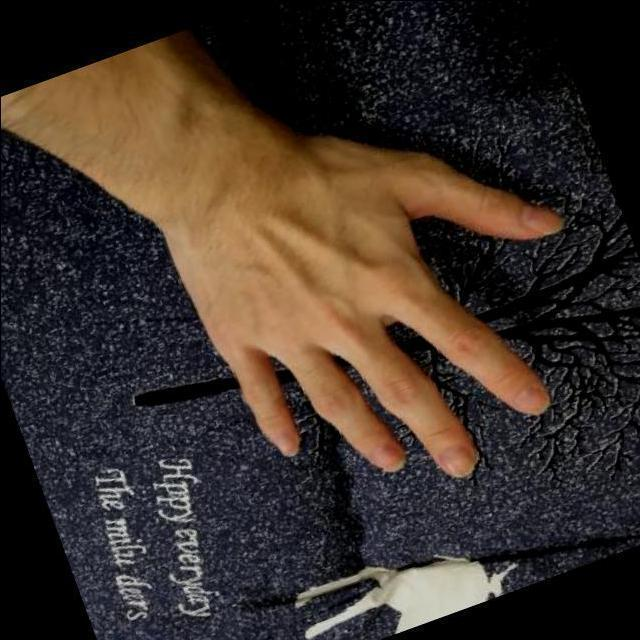Hand: (0, 24, 587, 488)
